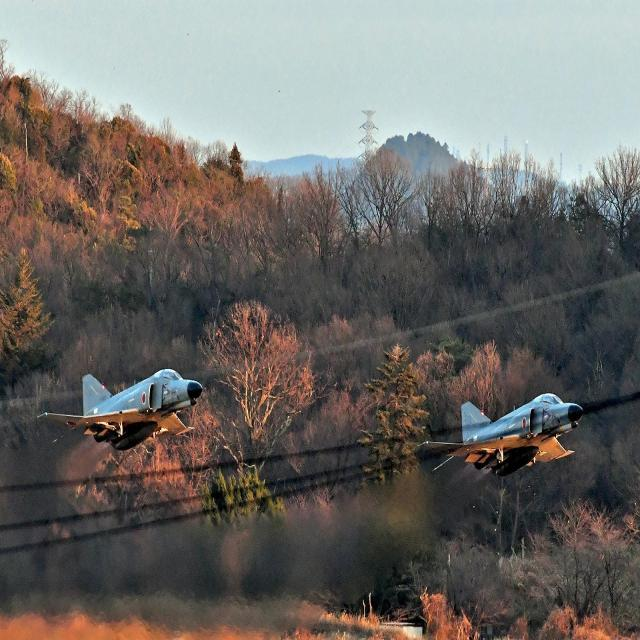MIL_Plane: (414, 393, 584, 478), (37, 368, 207, 451)
